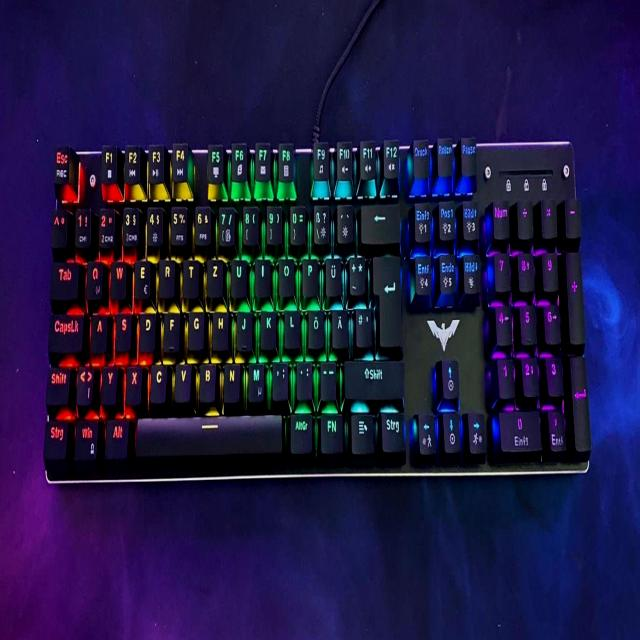0: (288, 202, 306, 245)
1: (73, 203, 91, 248)
2: (97, 205, 115, 250)
3: (121, 203, 139, 249)
4: (145, 201, 163, 249)
5: (169, 204, 188, 250)
6: (192, 202, 211, 248)
7: (217, 204, 235, 248)
8: (241, 202, 259, 246)
9: (264, 201, 282, 246)
a: (89, 310, 106, 352)
accent: (335, 201, 353, 243)
ae: (330, 306, 348, 348)
alt-left: (103, 414, 128, 457)
altgr-right: (288, 410, 312, 452)
b: (198, 360, 216, 401)
c: (148, 361, 166, 401)
caret: (50, 207, 68, 247)
comma: (271, 360, 287, 400)
d: (137, 309, 155, 350)
del: (359, 201, 399, 242)
e: (133, 256, 150, 298)
enter: (371, 250, 401, 347)
f: (162, 308, 179, 350)
g: (186, 308, 204, 349)
h: (211, 308, 228, 349)
hash: (354, 304, 372, 346)
i: (254, 254, 271, 295)
j: (235, 308, 252, 349)
k: (259, 308, 276, 349)
keyboard: (37, 134, 597, 498)
l: (283, 307, 299, 348)
less: (75, 364, 93, 404)
m: (246, 361, 264, 403)
minus: (319, 360, 335, 400)
n: (223, 361, 239, 401)
o: (277, 254, 295, 296)
oe: (306, 307, 324, 349)
p: (300, 254, 317, 296)
plus: (347, 253, 365, 296)
point: (295, 358, 311, 398)
q: (84, 257, 102, 299)
r: (157, 255, 175, 295)
s: (114, 308, 131, 349)
shift-left: (45, 363, 69, 403)
shift-lock: (47, 310, 83, 352)
shift-right: (342, 356, 403, 399)
space: (133, 411, 283, 455)
ss: (312, 202, 330, 246)
strg-left: (43, 416, 68, 459)
strg-right: (379, 409, 405, 452)
t: (181, 255, 199, 295)
tab: (49, 258, 79, 298)
u: (229, 255, 247, 296)
ue: (324, 253, 342, 297)
v: (173, 360, 191, 400)
w: (109, 257, 127, 297)
x: (125, 361, 141, 402)
y: (99, 362, 117, 402)
z: (205, 255, 223, 295)
